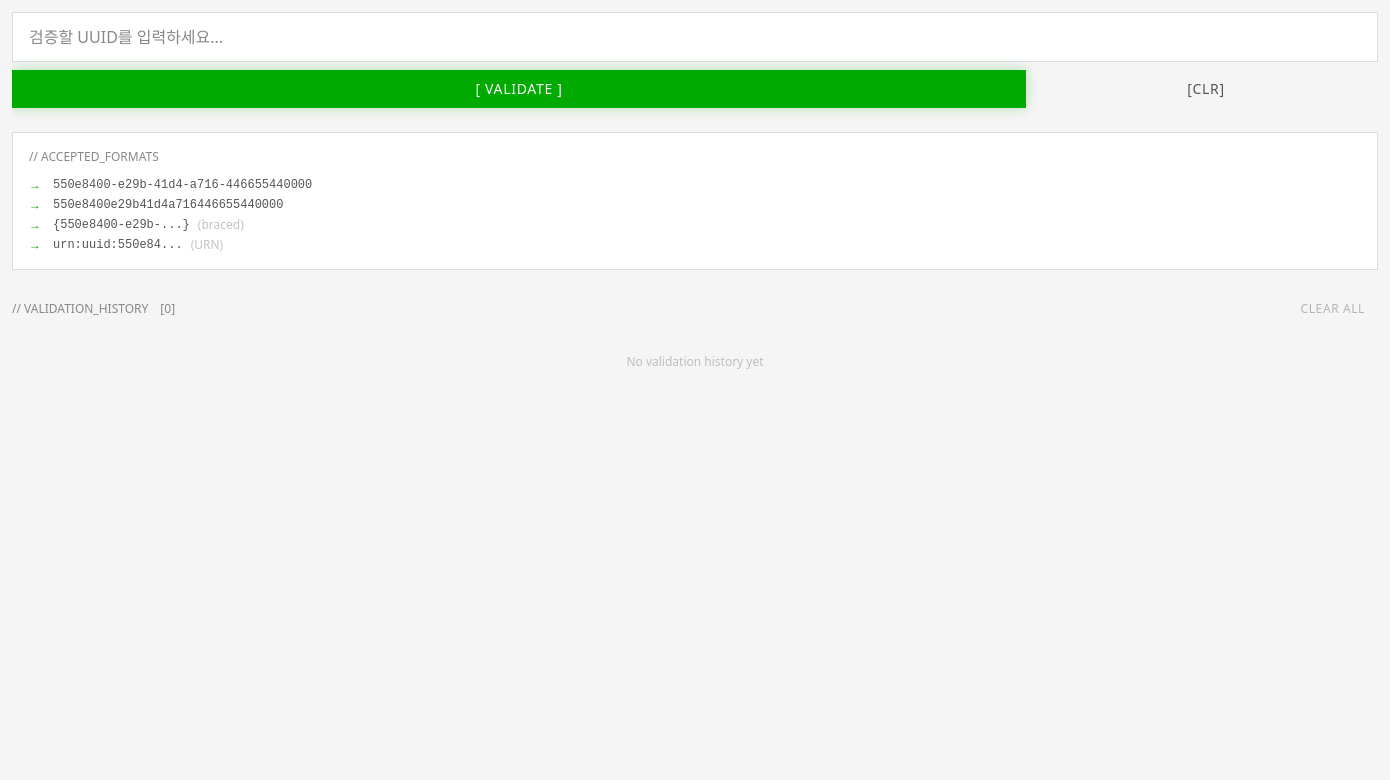
Test: UuidValidator › 유효한 UUID 입력 후 검증 시 [VALID] 상태를 표시해야 함
The width and height of the screenshot is (1390, 780).
Type "550e8400-e29b-41d4-a716-446655440000" into the field with test id "uuid-input" at (695, 37), box [12,12,1378,62]
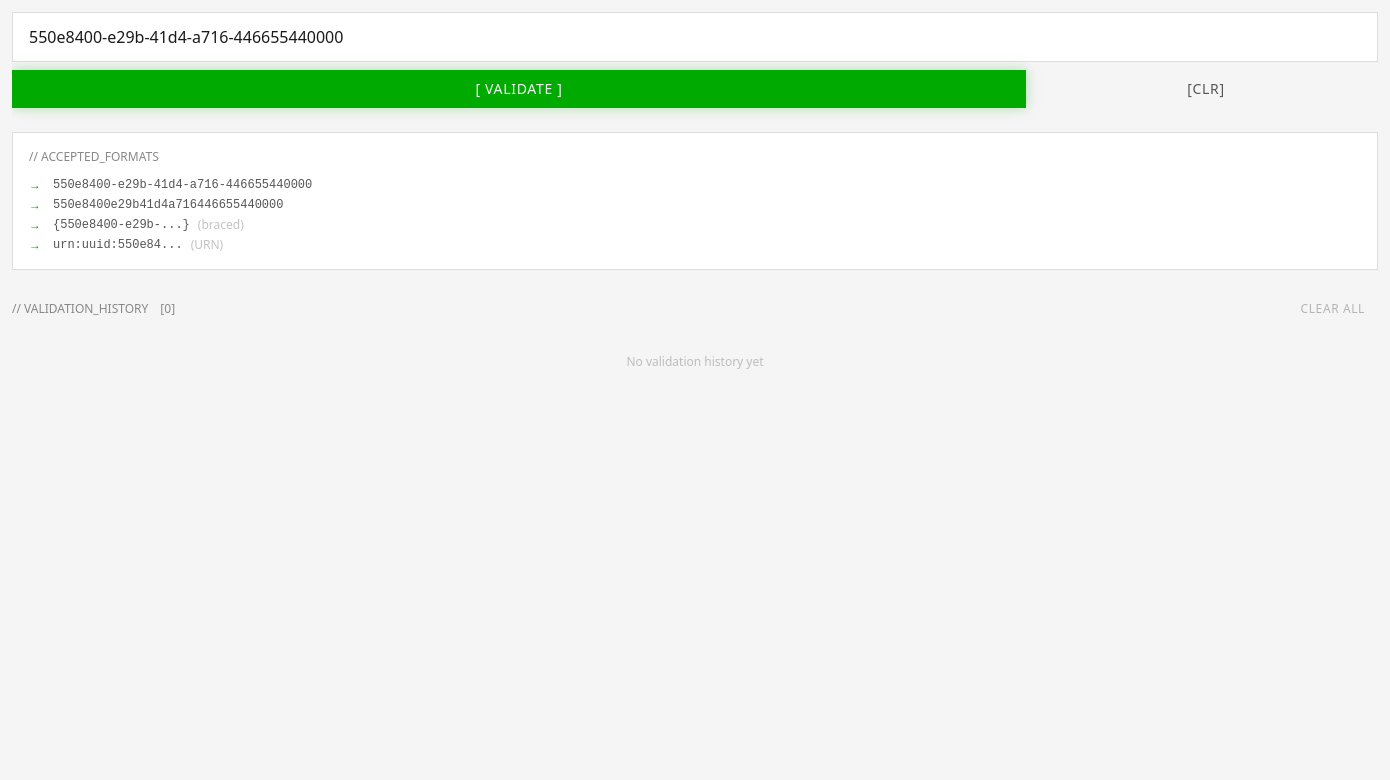
Enter 키로 검증 실행
Press Enter in the field with test id "uuid-input", box [12,12,1378,62]
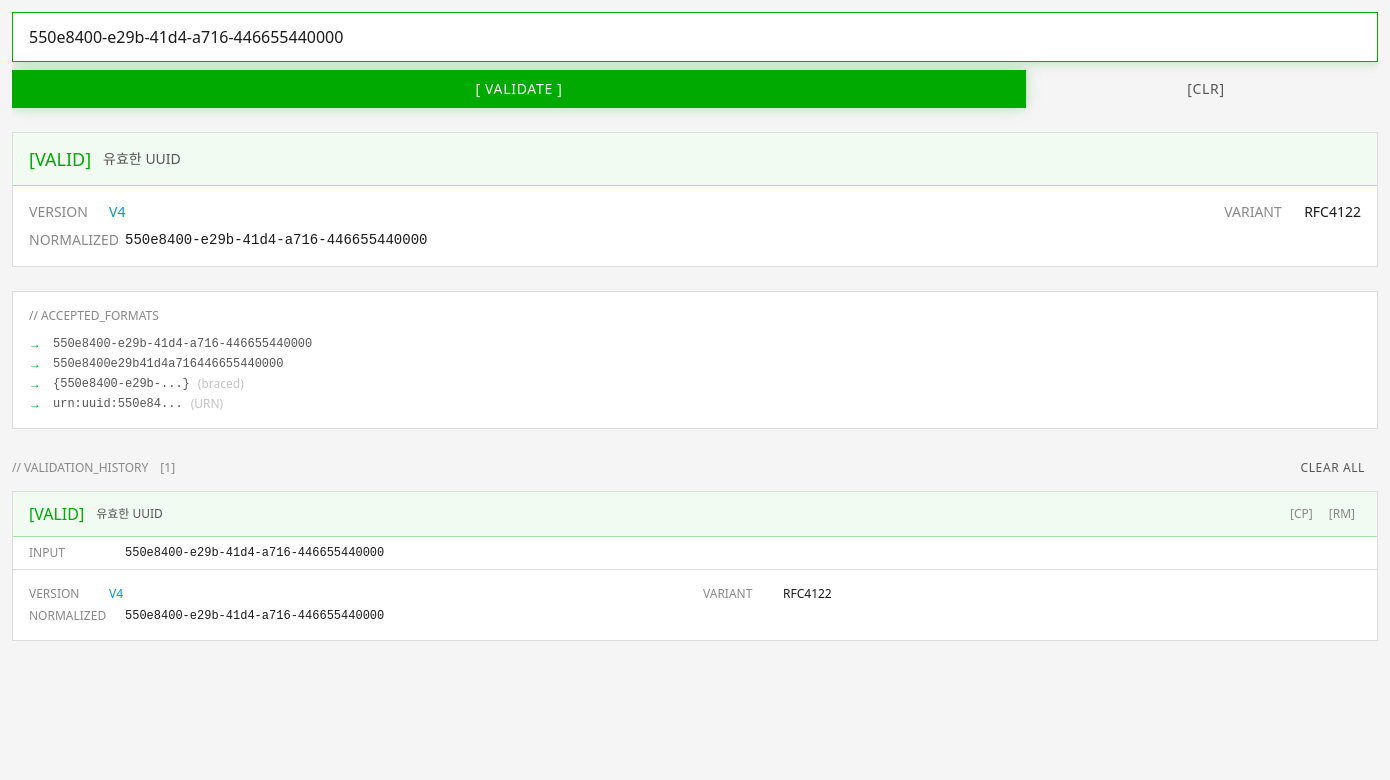
Result: the element with test id "validation-result" shows "[VALID]" at [29,147,91,171]
